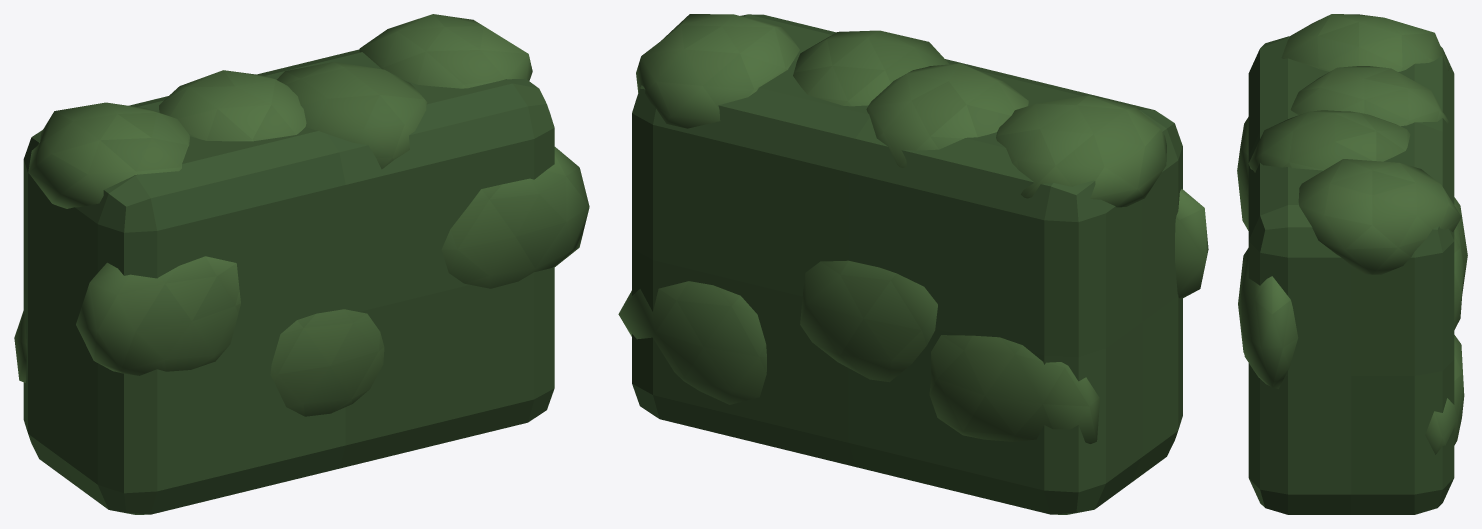
The model's file is nature_hedge_01.glb.
The picture shows the model from 3 angles, left to right: view 1: azimuth 30°, elevation 25°; view 2: azimuth 150°, elevation 25°; view 3: azimuth 270°, elevation 25°; orthographic projection. The views are drawn at different scales.
Visible parts, largest first — view 1: nature_hedge_01; view 2: nature_hedge_01; view 3: nature_hedge_01.
Part boxes in pixels (x1,y1,x2,y2): nature_hedge_01: (14, 14, 589, 514); nature_hedge_01: (618, 14, 1208, 514); nature_hedge_01: (1237, 14, 1467, 514).
Bounding box in the file's own units: 1.33 × 0.9395 × 0.5829.
